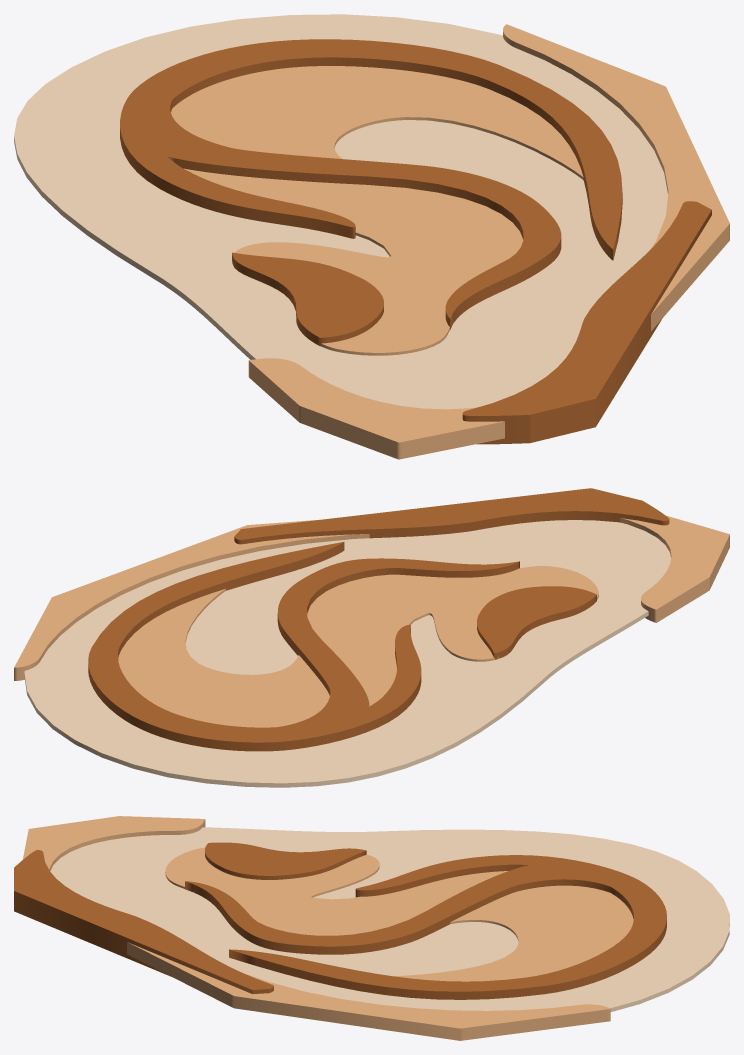
File: emoji_u1f442_1f3fb.glb
The picture shows the model from 3 angles, top to bottom: view 1: azimuth 30°, elevation 25°; view 2: azimuth 150°, elevation 25°; view 3: azimuth 270°, elevation 25°; orthographic projection. The views are drawn at different scales.
Parts seen in each view (by area): view 1: emoji_u1f442_1f3fb; view 2: emoji_u1f442_1f3fb; view 3: emoji_u1f442_1f3fb.
Boxes of the visible parts, box(x1,y1,x2,y2) form: emoji_u1f442_1f3fb: box(14, 14, 729, 459); emoji_u1f442_1f3fb: box(14, 488, 729, 787); emoji_u1f442_1f3fb: box(14, 816, 729, 1040).
Bounding box in the file's own units: 0.0222 × 0.001 × 0.0316.
